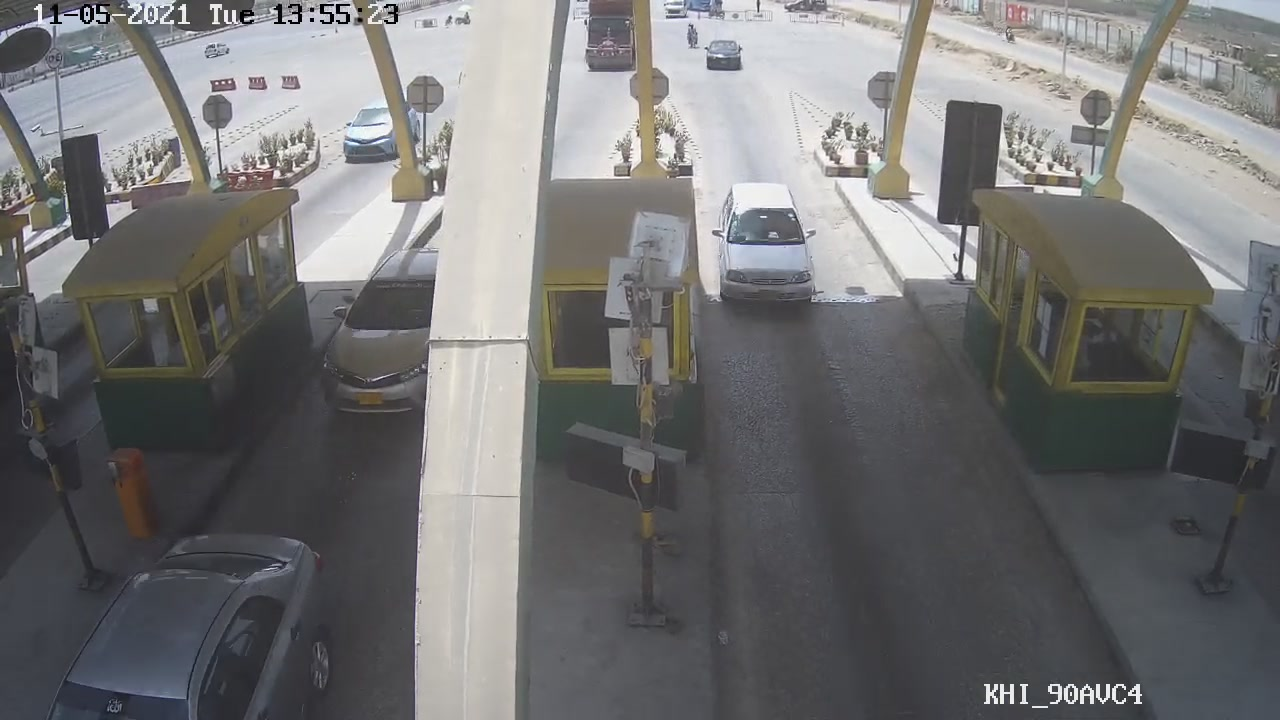F2: (711, 177, 819, 315)
